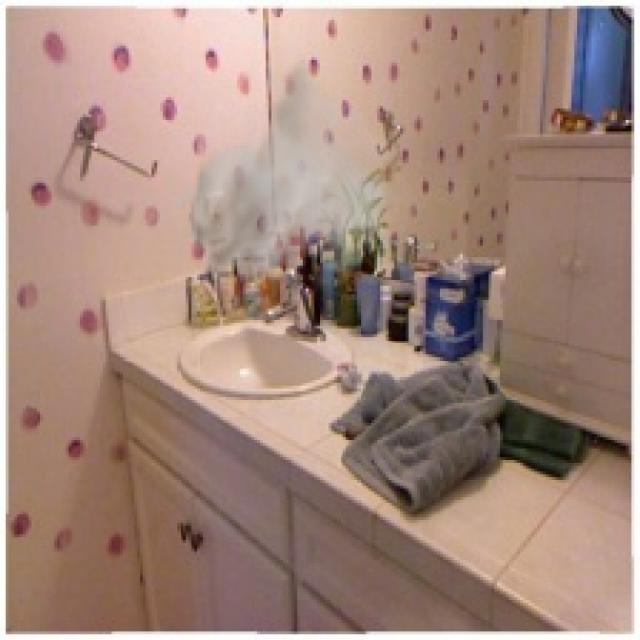smoke: (169, 51, 400, 306)
